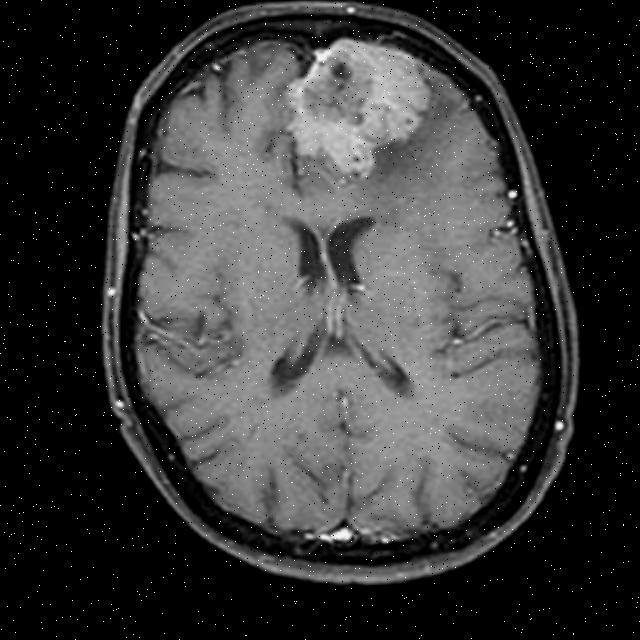Meningioma: (279, 32, 439, 181)
